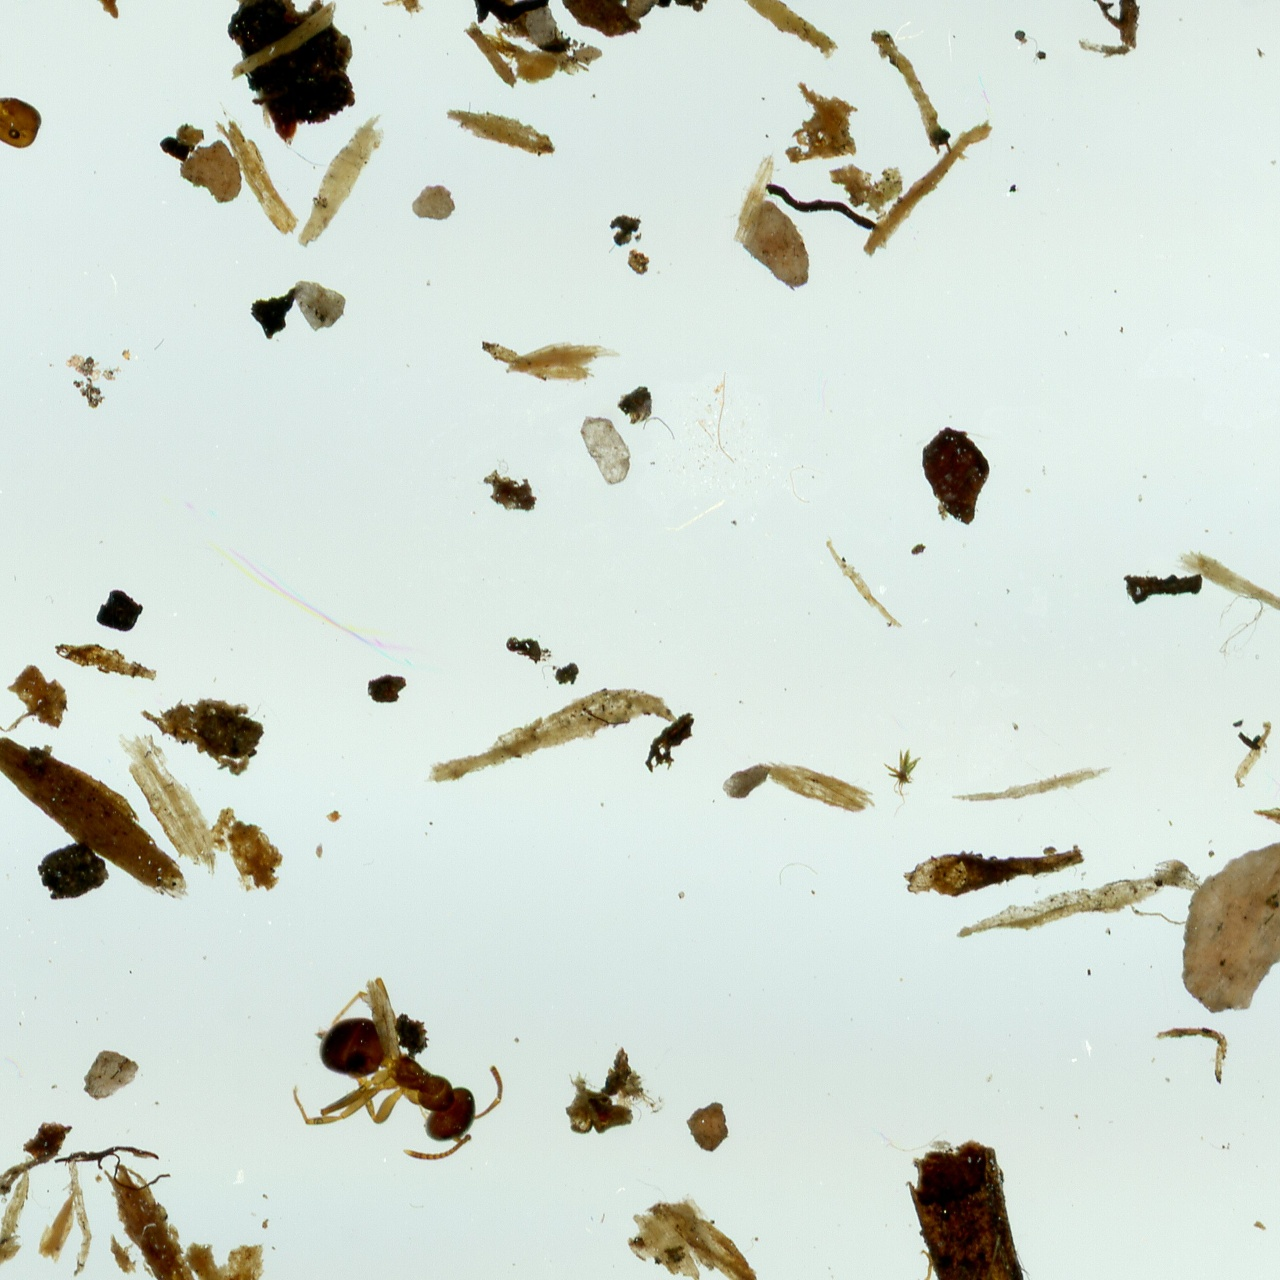arthropod: (287, 972, 508, 1165), (806, 1249, 966, 1280)
